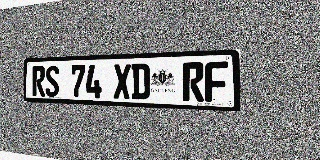4: (86, 65, 102, 98)
7: (70, 65, 85, 98)
D: (131, 63, 150, 100)
F: (205, 61, 228, 102)
R: (183, 62, 204, 102), (32, 66, 45, 97)
S: (45, 66, 59, 97)
X: (113, 64, 131, 99)
